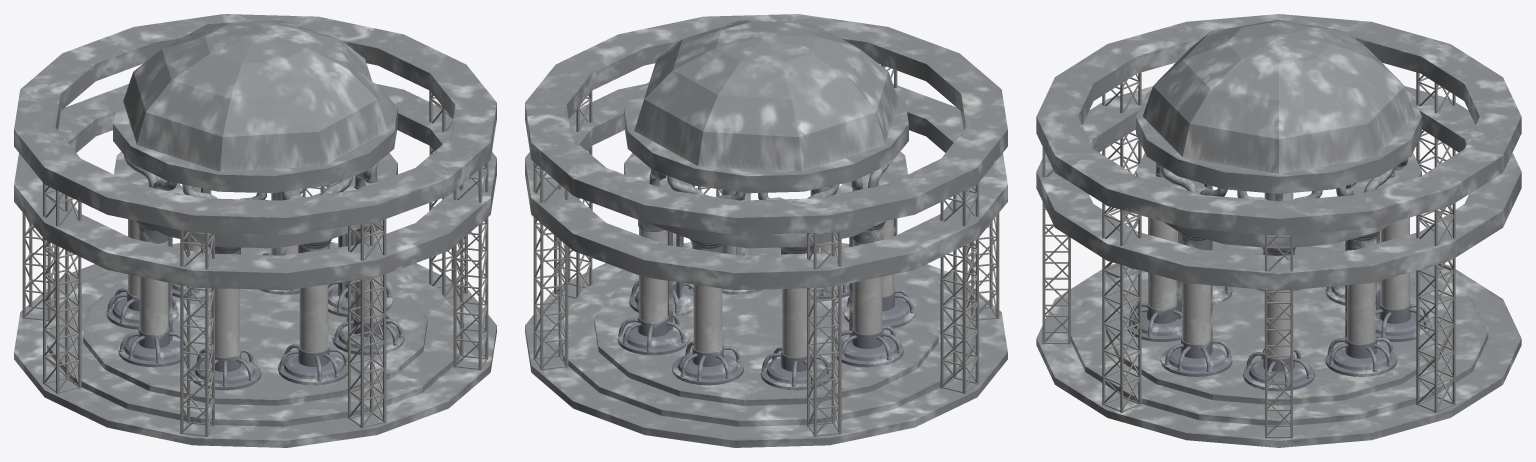
The model's file is field_winter_prop_room.fbx.
The picture shows the model from 3 angles, left to right: view 1: azimuth 30°, elevation 25°; view 2: azimuth 150°, elevation 25°; view 3: azimuth 270°, elevation 25°; orthographic projection.
Parts seen in each view (by area): view 1: field_winter_prop_room; view 2: field_winter_prop_room; view 3: field_winter_prop_room.
Part boxes in pixels (x1,y1,x2,y2): field_winter_prop_room: (14, 14, 496, 447); field_winter_prop_room: (525, 14, 1007, 447); field_winter_prop_room: (1036, 14, 1521, 447).
Bounding box in the file's own units: 750 × 526 × 750.
1 material, 1 textured.
